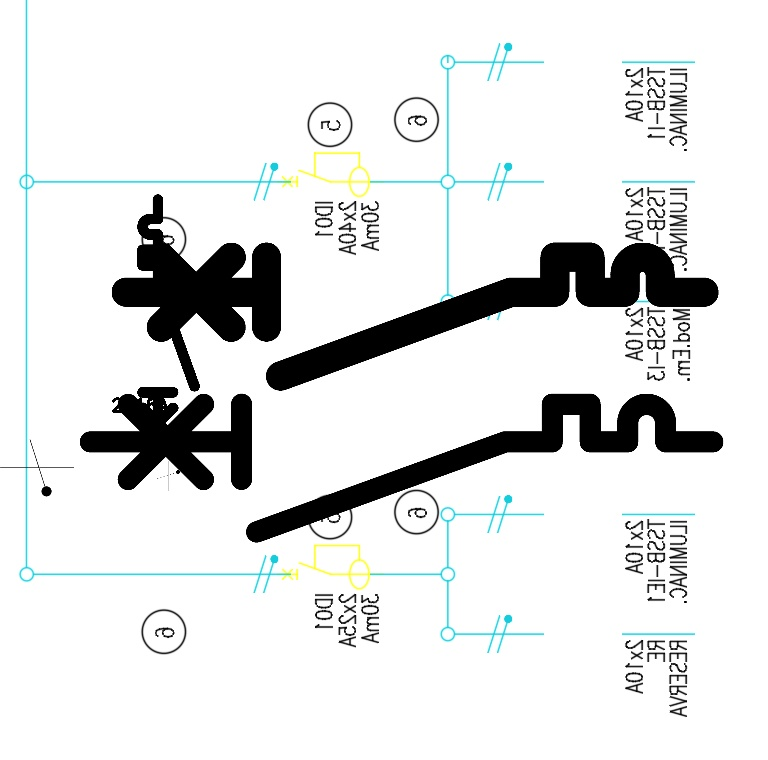interruptor_termomagnetico: (74, 388, 729, 548), (111, 242, 719, 391), (136, 193, 201, 460)
